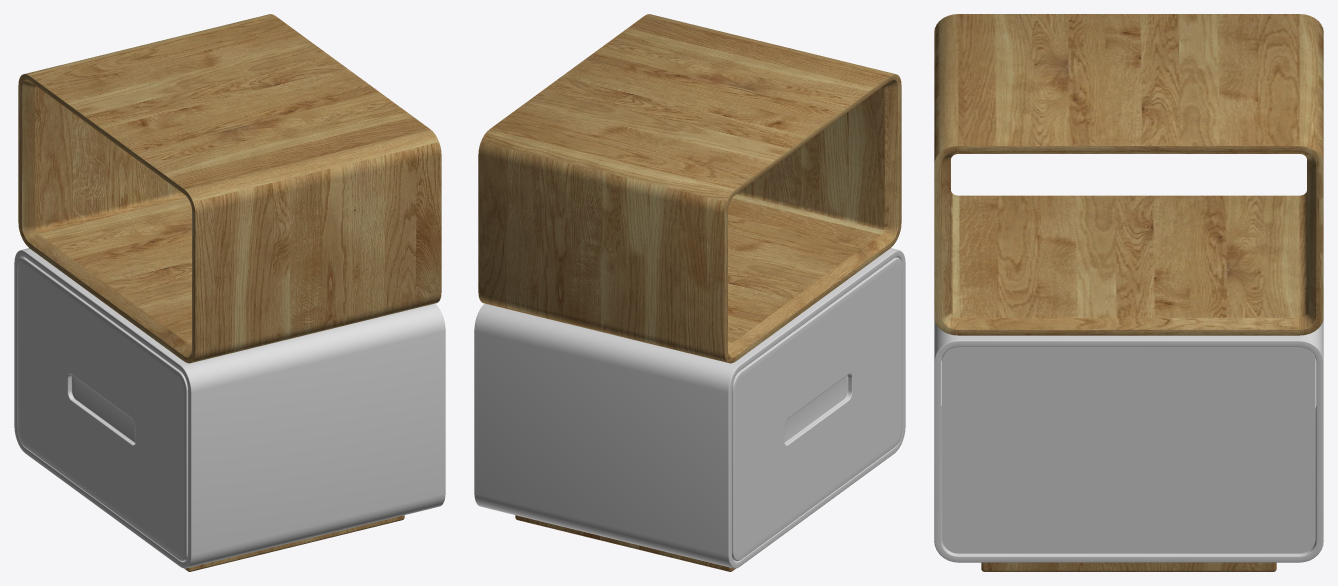
Rendered from table-transformed.glb.
The picture shows the model from 3 angles, left to right: view 1: azimuth 30°, elevation 25°; view 2: azimuth 150°, elevation 25°; view 3: azimuth 270°, elevation 25°; orthographic projection. The views are drawn at different scales.
Visible parts, largest first — view 1: Cube, Cube.002, Cube.003, Cube.001; view 2: Cube, Cube.002, Cube.003, Cube.001; view 3: Cube, Cube.001, Cube.002.
Part boxes in pixels (bbox=[...]): Cube: bbox=[18, 14, 441, 363]; Cube.002: bbox=[14, 248, 445, 571]; Cube.003: bbox=[20, 265, 182, 554]; Cube.001: bbox=[17, 257, 187, 561]; Cube: bbox=[478, 14, 901, 363]; Cube.002: bbox=[474, 248, 905, 571]; Cube.003: bbox=[737, 264, 899, 554]; Cube.001: bbox=[732, 257, 902, 561]; Cube: bbox=[934, 14, 1323, 335]; Cube.001: bbox=[942, 347, 1315, 553]; Cube.002: bbox=[934, 319, 1323, 571].
Size of the model in its own units: 0.3249 by 0.4798 by 0.3896.
Materials: 2 (1 with a texture image).
